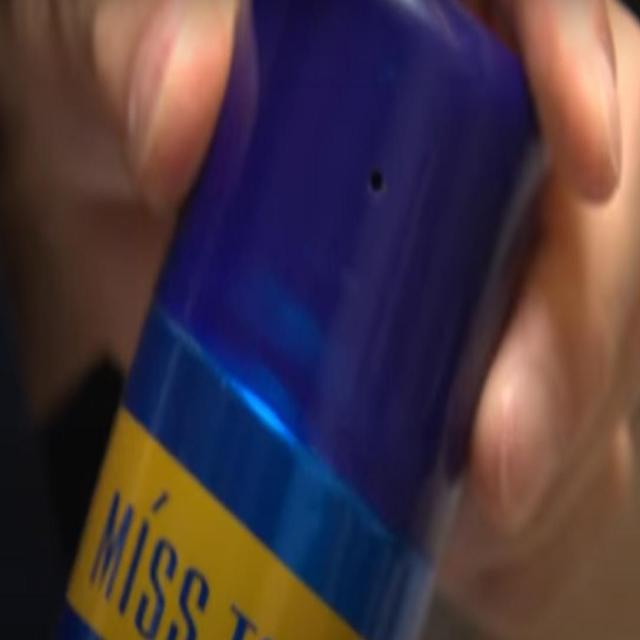hidden camera: (369, 171, 386, 194)
